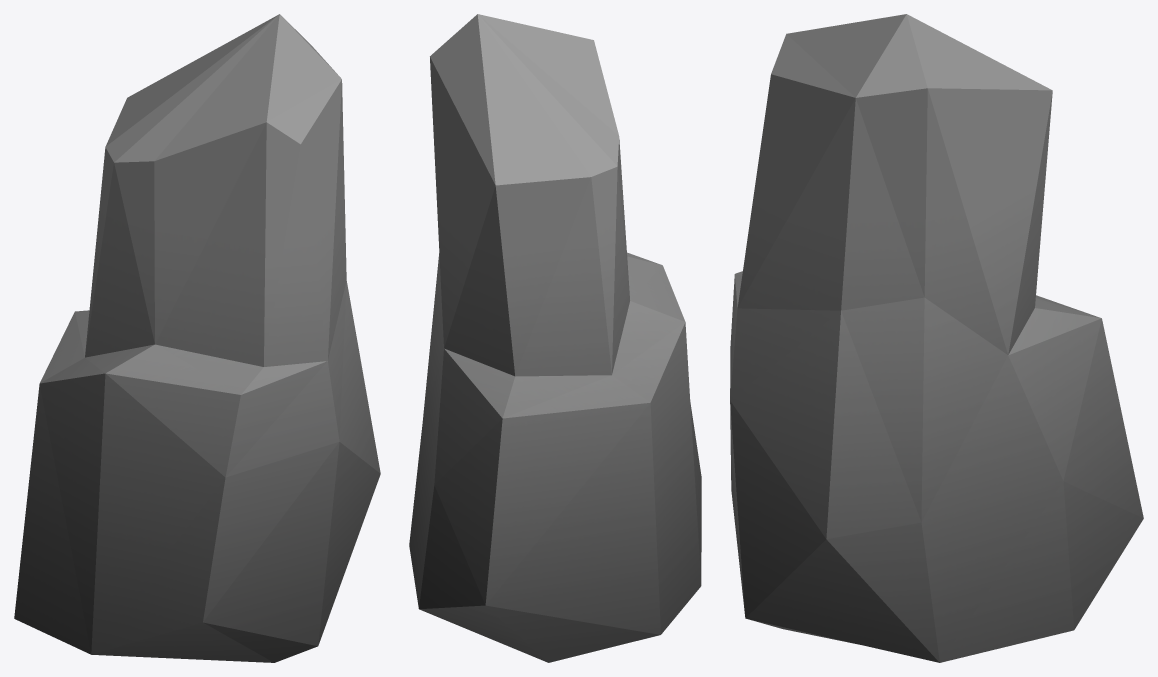
The model's file is Jungle_Rock_Pointy_B.fbx.
3 renders of one model, left to right at view 1: azimuth 30°, elevation 25°; view 2: azimuth 150°, elevation 25°; view 3: azimuth 270°, elevation 25°, orthographic. The views are drawn at different scales.
Visible parts, largest first — view 1: Jungle_Rock_Pointy_B; view 2: Jungle_Rock_Pointy_B; view 3: Jungle_Rock_Pointy_B.
Boxes of the visible parts, x1=… form: Jungle_Rock_Pointy_B: x1=14, y1=14, x2=380, y2=662; Jungle_Rock_Pointy_B: x1=409, y1=14, x2=701, y2=662; Jungle_Rock_Pointy_B: x1=730, y1=14, x2=1143, y2=662.
Size of the model in its own units: 1.99 by 3.84 by 2.22.
Materials: 1 (1 with a texture image).
